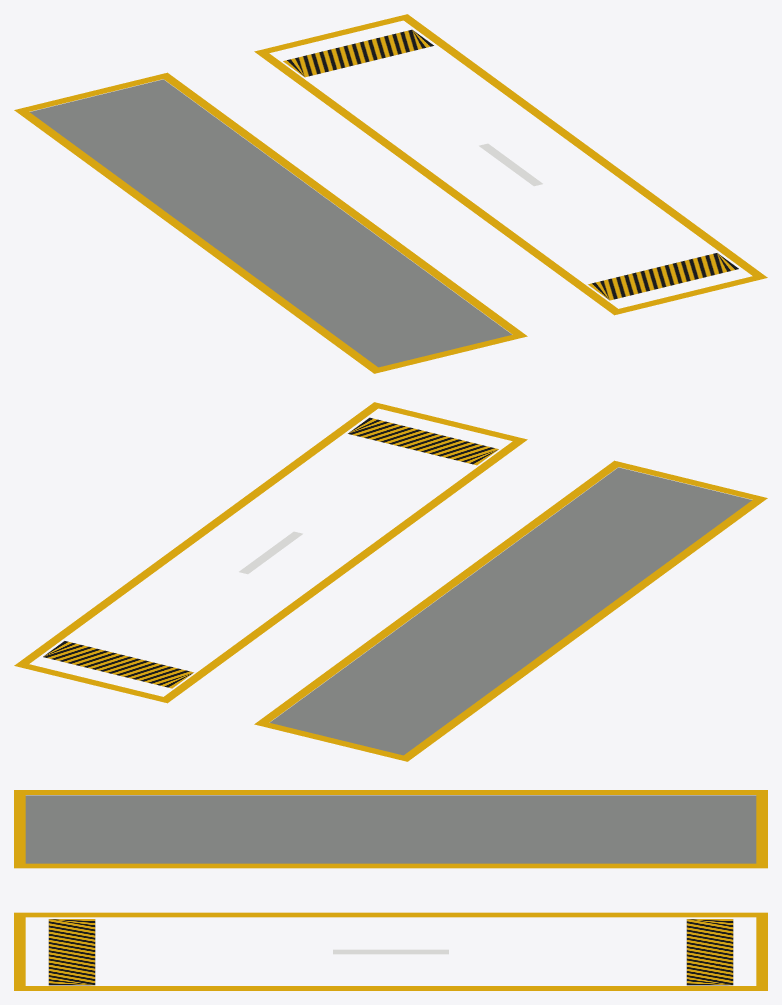
File: yard-markings.glb
3 views of the same model, one above another, from view 1: azimuth 30°, elevation 25°; view 2: azimuth 150°, elevation 25°; view 3: azimuth 270°, elevation 25° (orthographic). The views are drawn at different scales.
Parts seen in each view (by area): view 1: wtp_pad, transfer_stall; view 2: wtp_pad, transfer_stall; view 3: wtp_pad, transfer_stall.
Boxes of the visible parts, left/top/right/bottom form: wtp_pad: left=14, top=72, right=527, bottom=373; transfer_stall: left=254, top=14, right=767, bottom=315; wtp_pad: left=254, top=460, right=767, bottom=761; transfer_stall: left=14, top=402, right=527, bottom=703; wtp_pad: left=14, top=790, right=767, bottom=868; transfer_stall: left=14, top=912, right=767, bottom=990.
Bounding box in the file's own units: 8.2 × 0.00814 × 13.
Materials: 1 (1 with a texture image).
